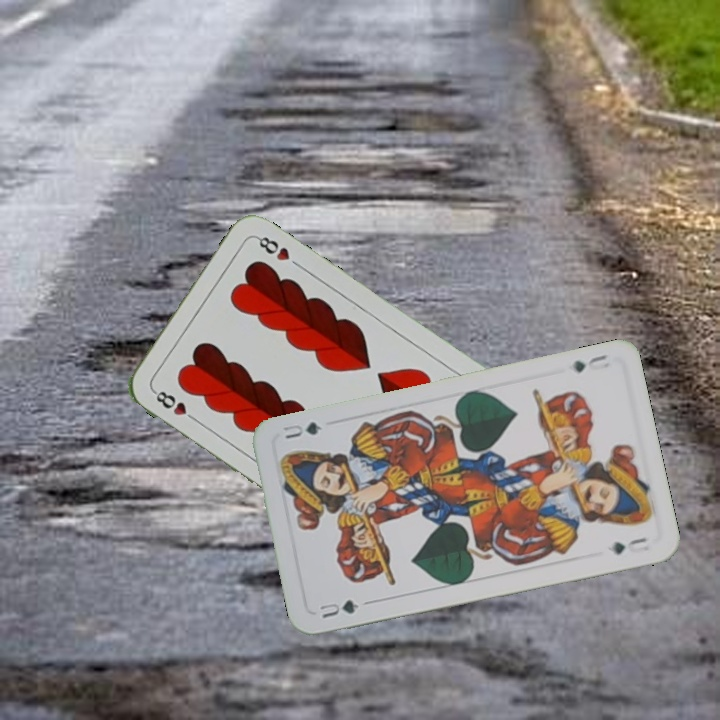GU: (315, 596, 371, 621), (568, 350, 610, 375)
H8: (149, 386, 201, 425)
